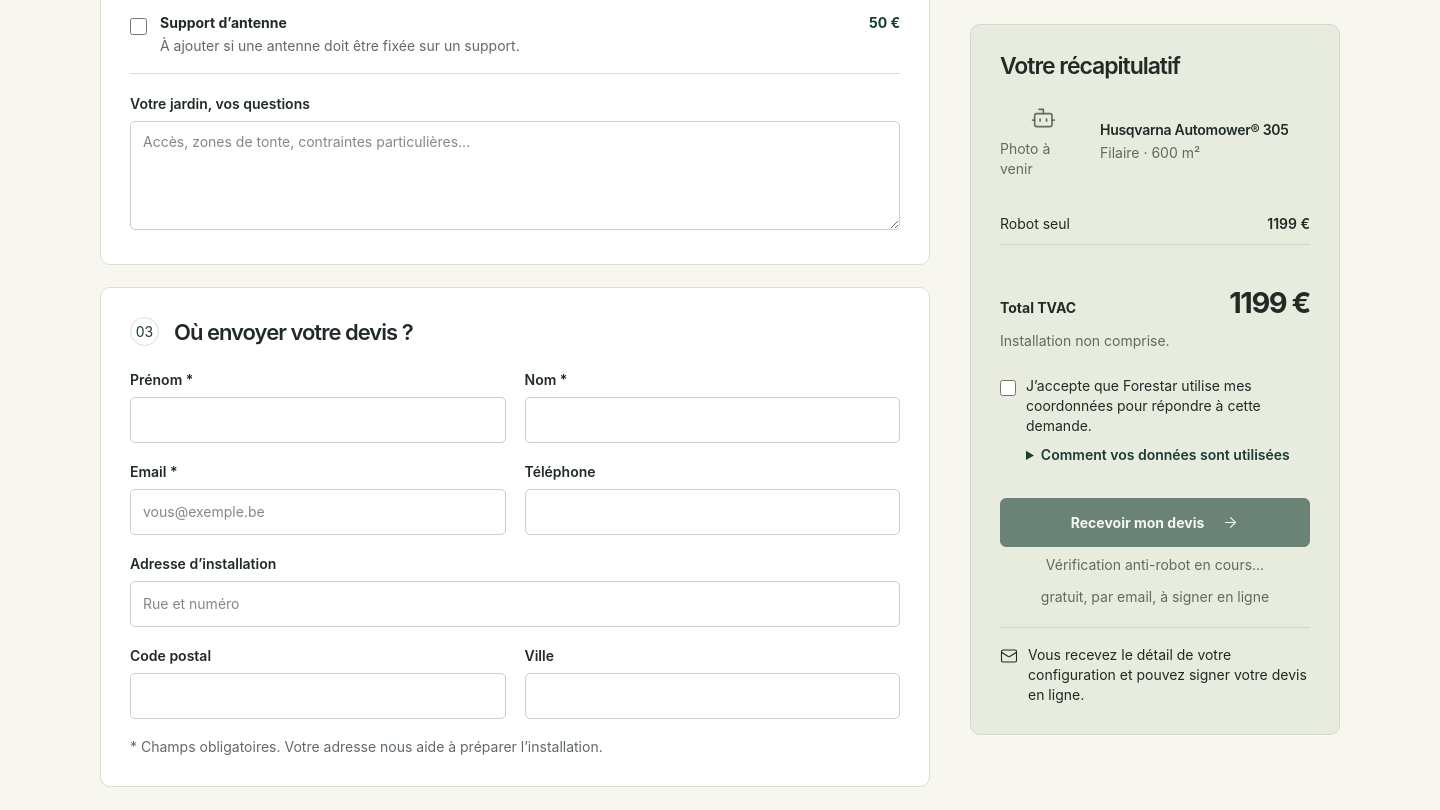
Scenario: formulaire de devis › un refus Turnstile réarme le widget, garde la saisie et ne compte aucun lead (AC-05/AC-06)
(page scrolled)
Type "Jean" into the field labelled "Prénom *" at coordinates (318, 420), box [130, 398, 506, 444]
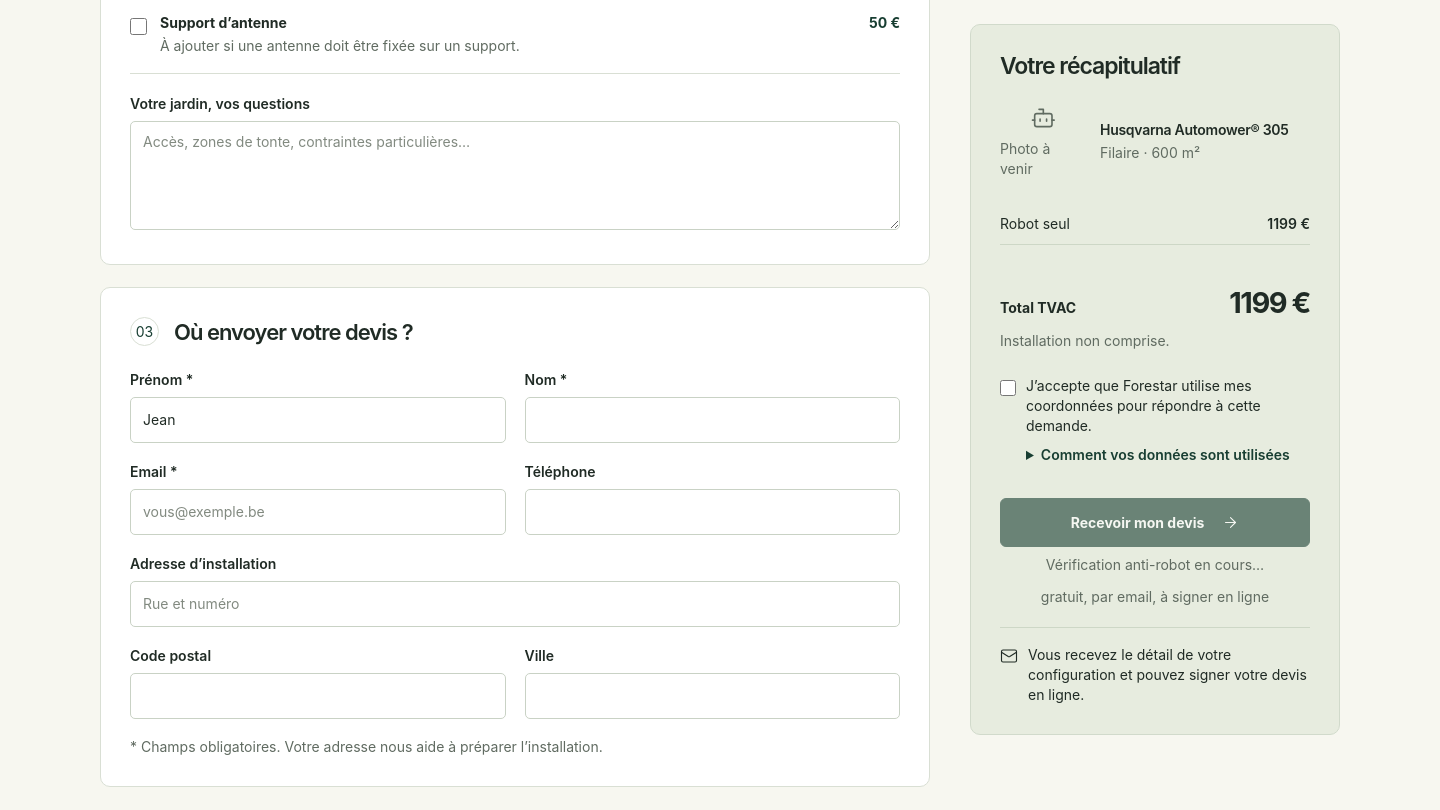
Type "Dupont" into the field labelled "Nom *" at coordinates (712, 420), box [524, 398, 900, 444]
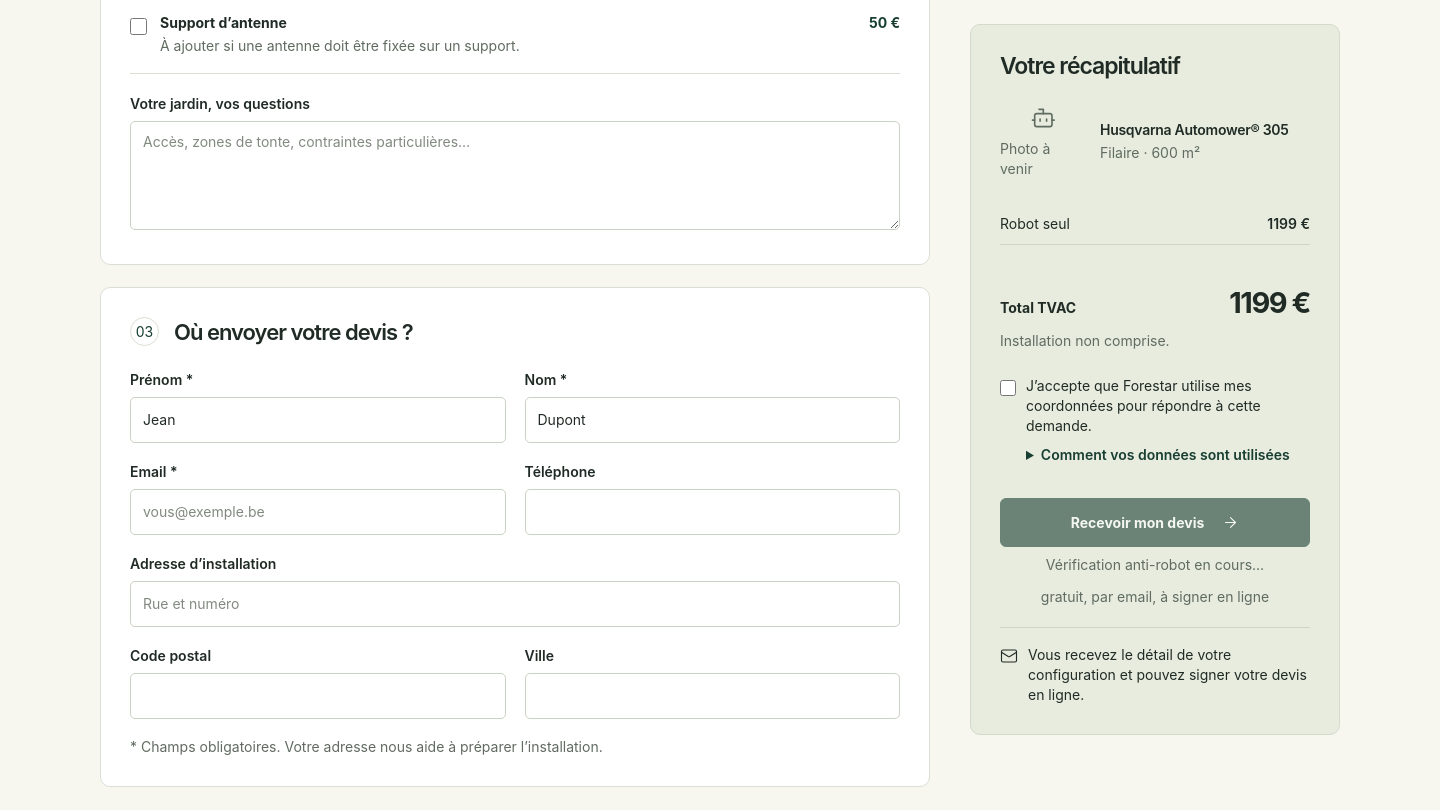
Type "jean@example.test" into the field labelled "Email *" at coordinates (318, 512), box [130, 490, 506, 536]
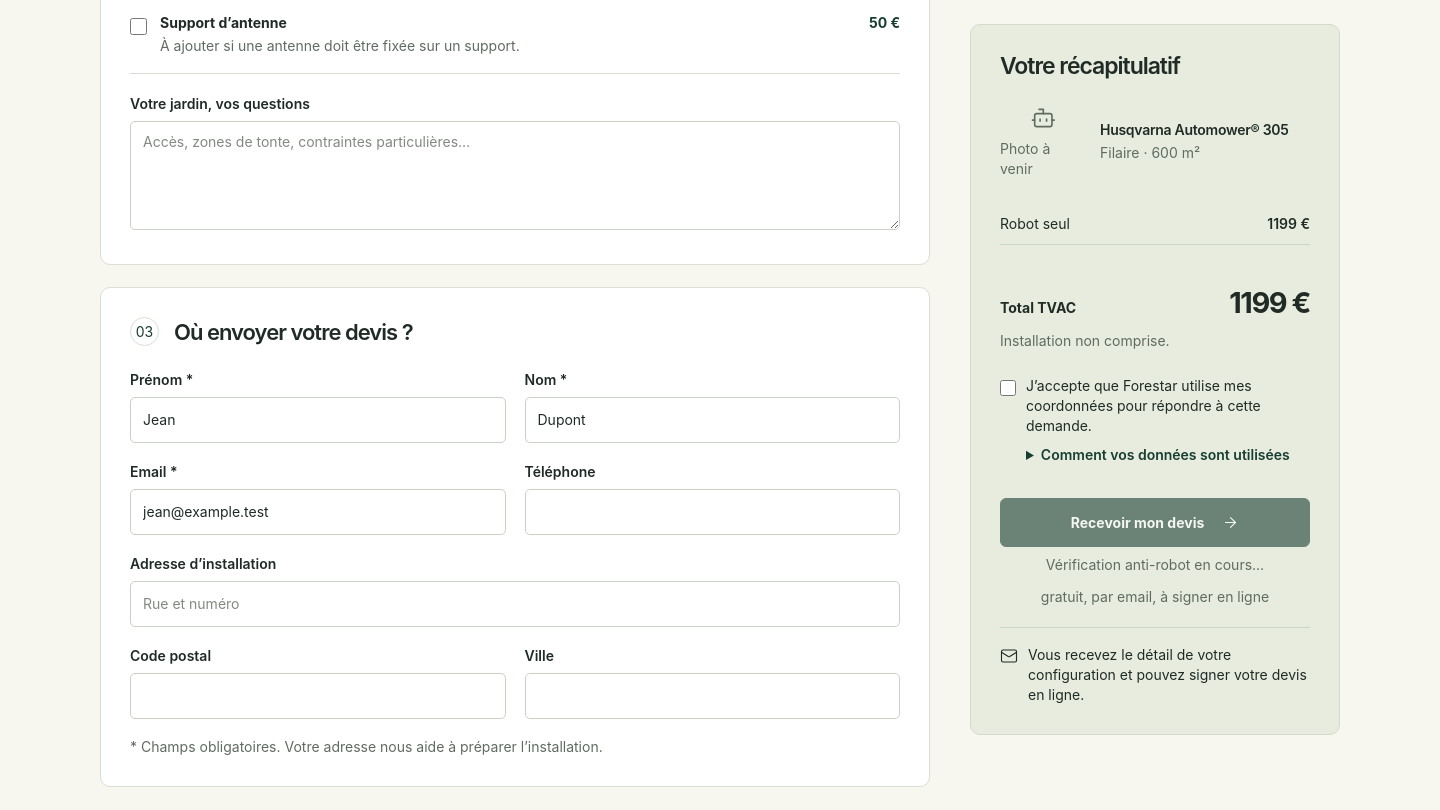
Click the checkbox labelled "J’accepte que Forestar" at coordinates (1008, 387), box [1000, 379, 1016, 395]
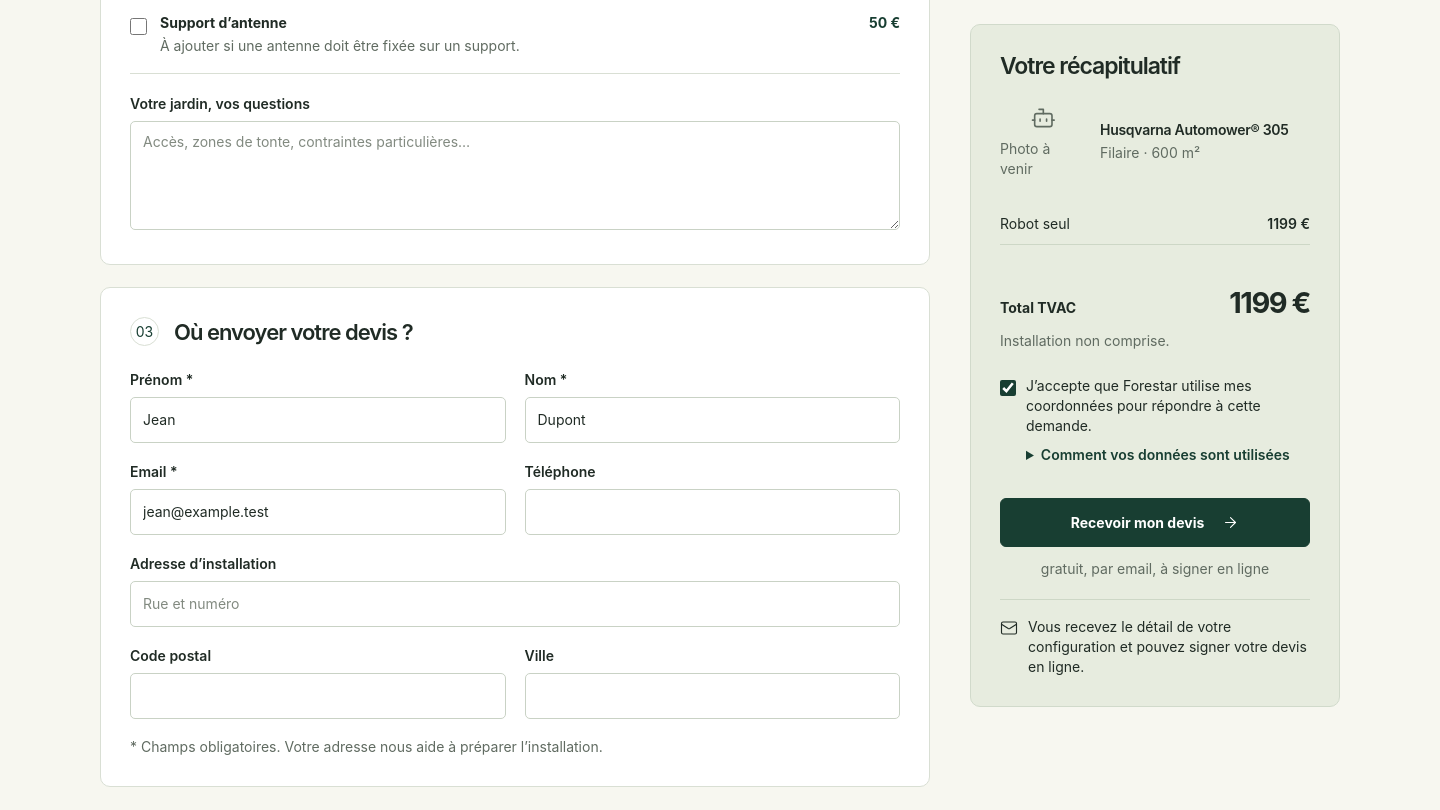
Now the button "Recevoir mon devis" is enabled
Click the button "Recevoir mon devis" at coordinates (1155, 522), box [1000, 498, 1310, 547]
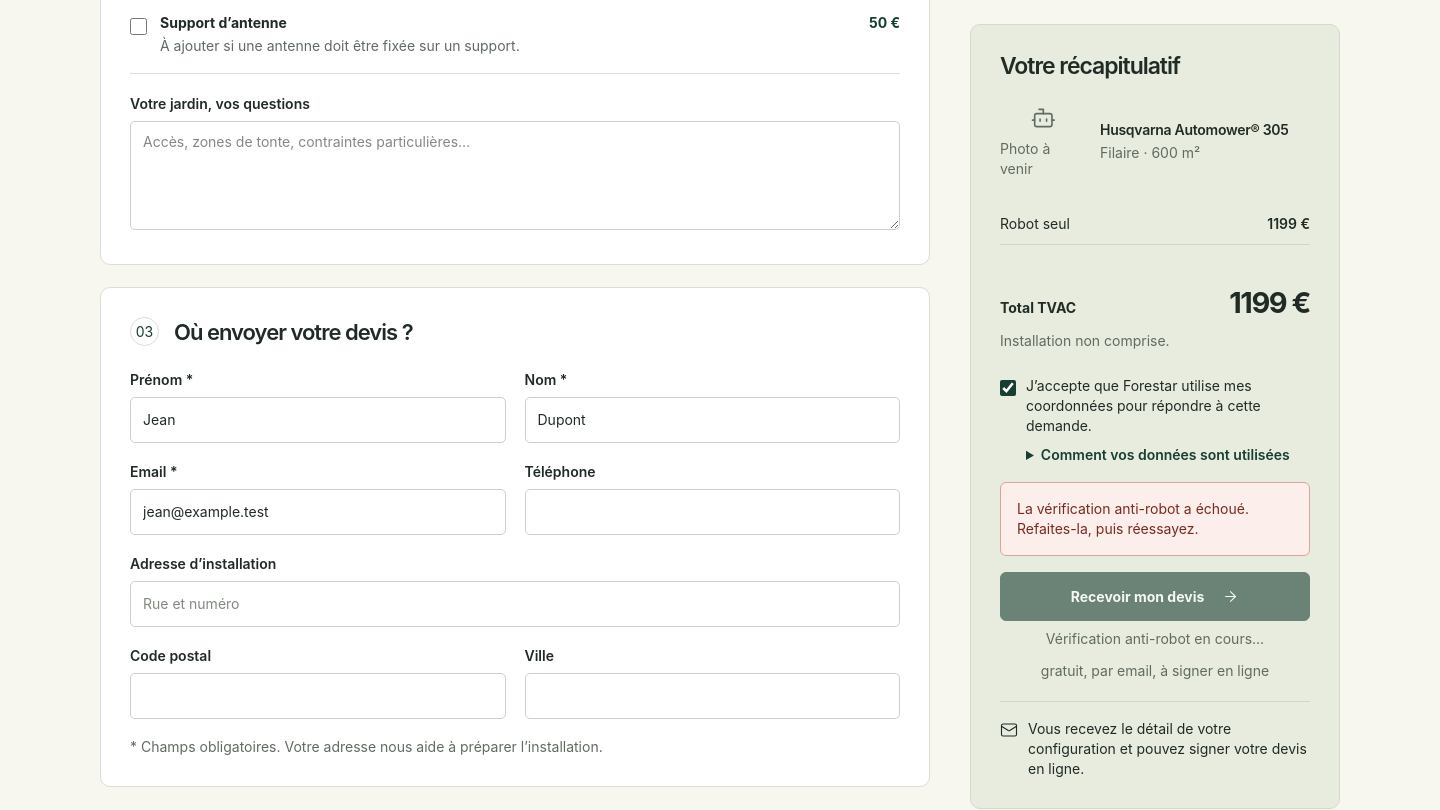
Now the message "La vérification anti-robot a échoué. Refaites-la, puis réessayez." is shown, box [1000, 482, 1310, 556]
